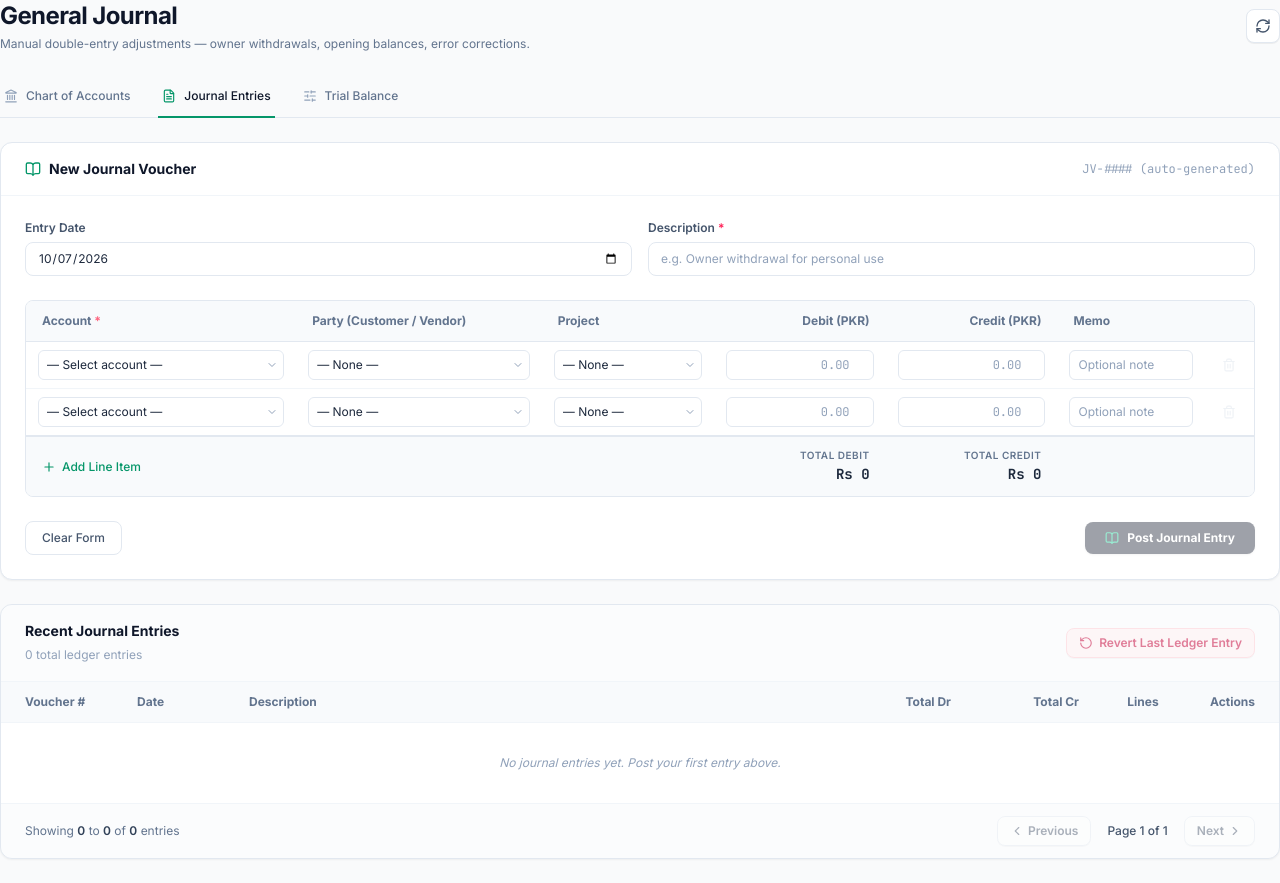
Test: JournalEntryForm / JournalsPage Component › 6. On successful POST, form resets and success message appears
Type "Valid posting" into the field with placeholder "e.g. Owner withdrawal for personal use" at coordinates (952, 259), box [648,242,1255,276]
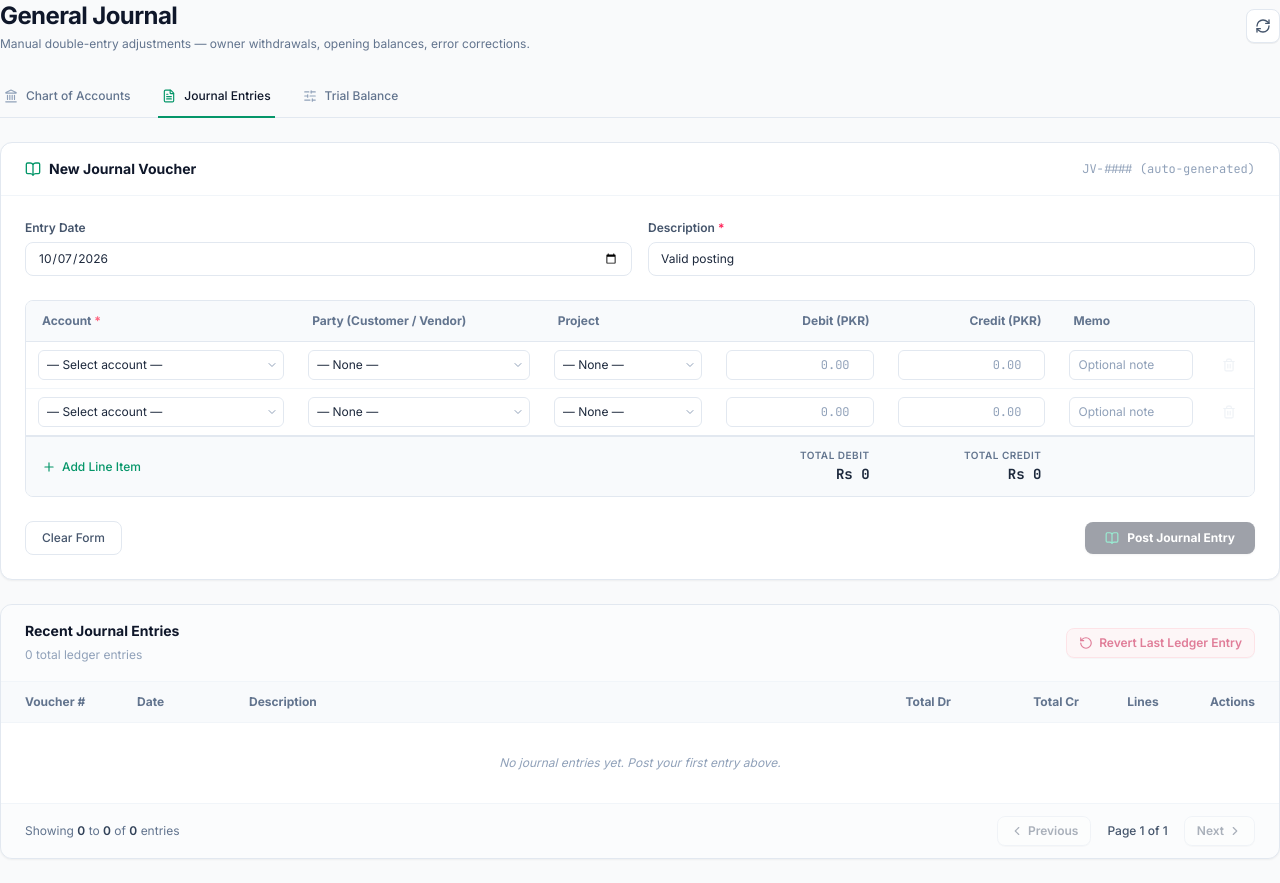
Select "1001 — Cash in Bank" in the 1st dropdown at coordinates (161, 365), box [38,350,284,380]
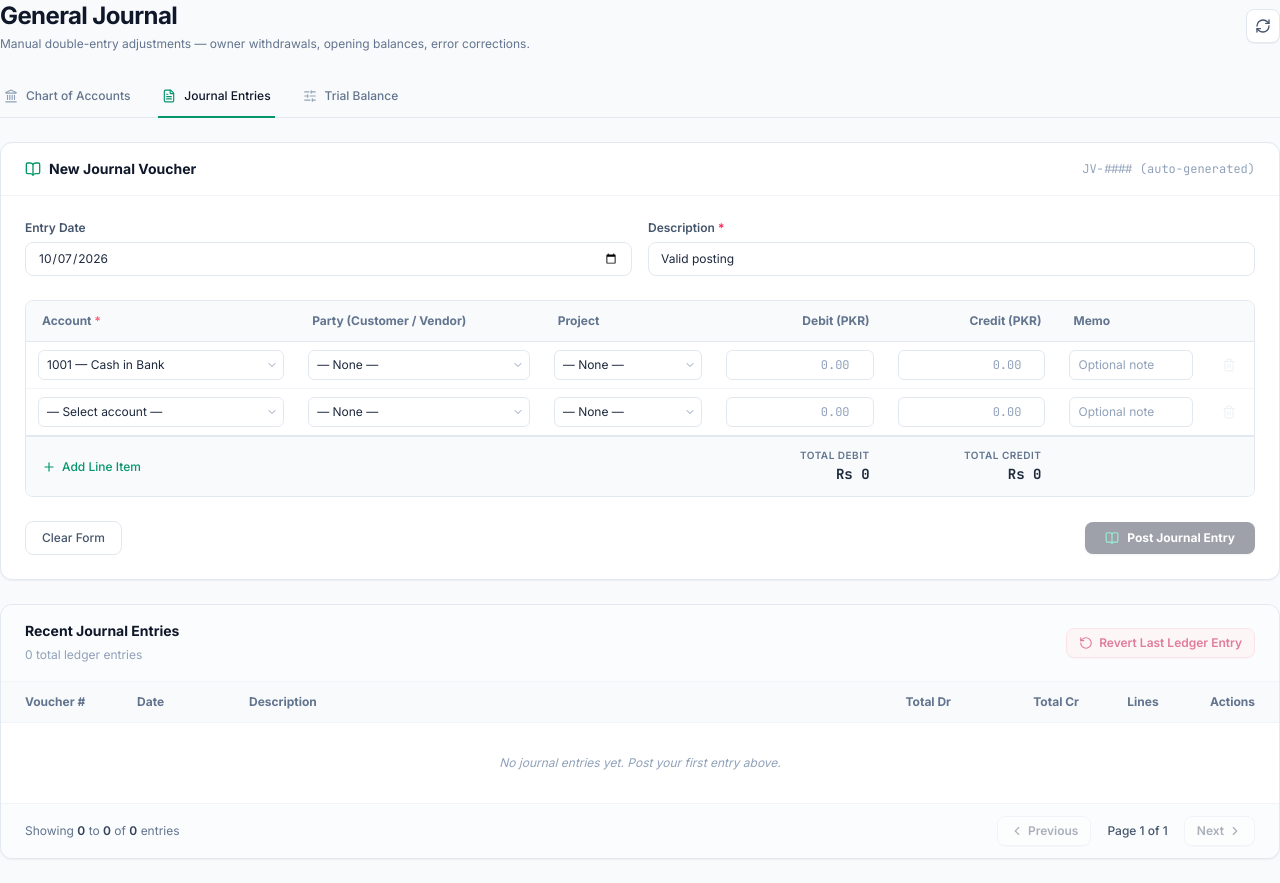
Select "3001 — Owner Equity" in the 4th dropdown at coordinates (161, 412), box [38,397,284,427]
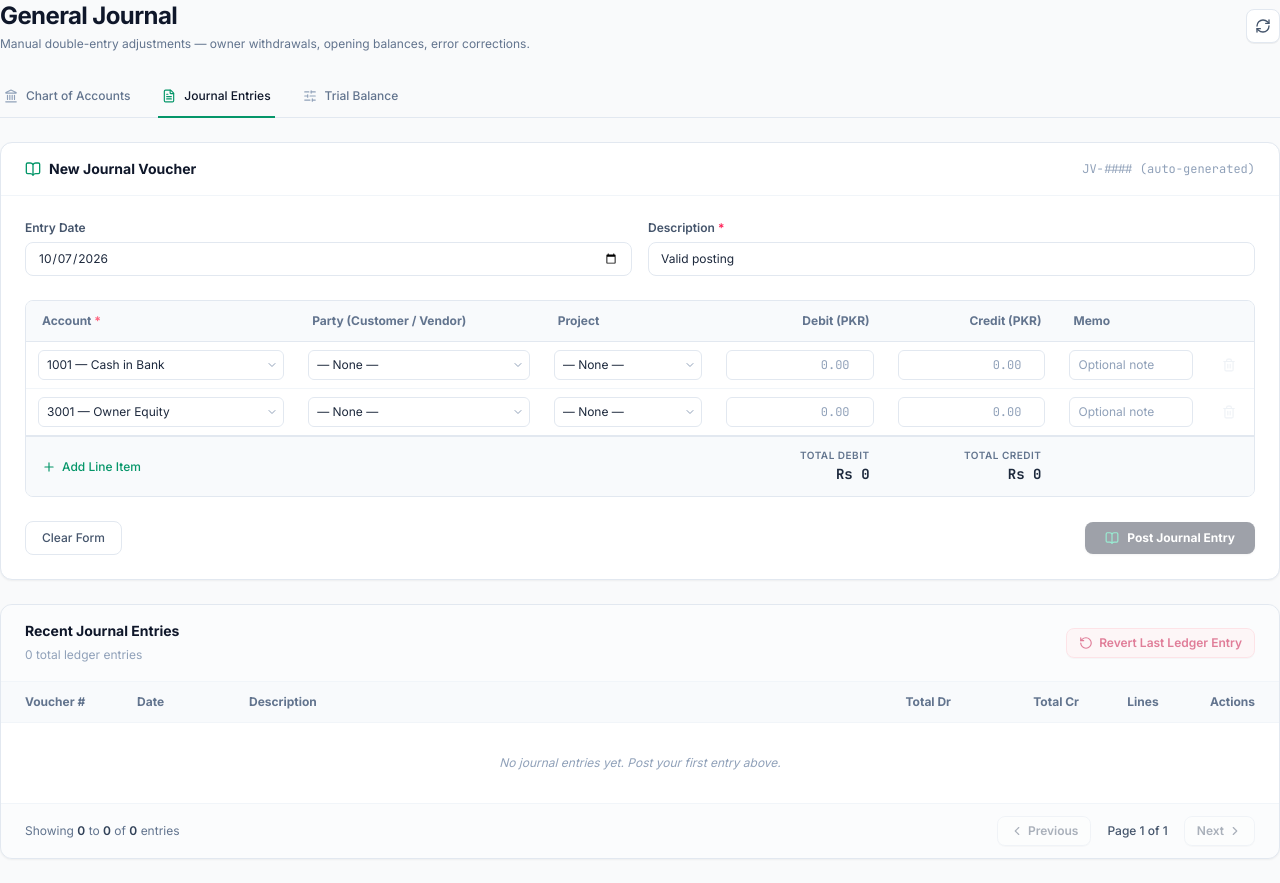
Type "1000" into the 1st number field with placeholder "0.00" at coordinates (800, 365), box [726,350,874,380]
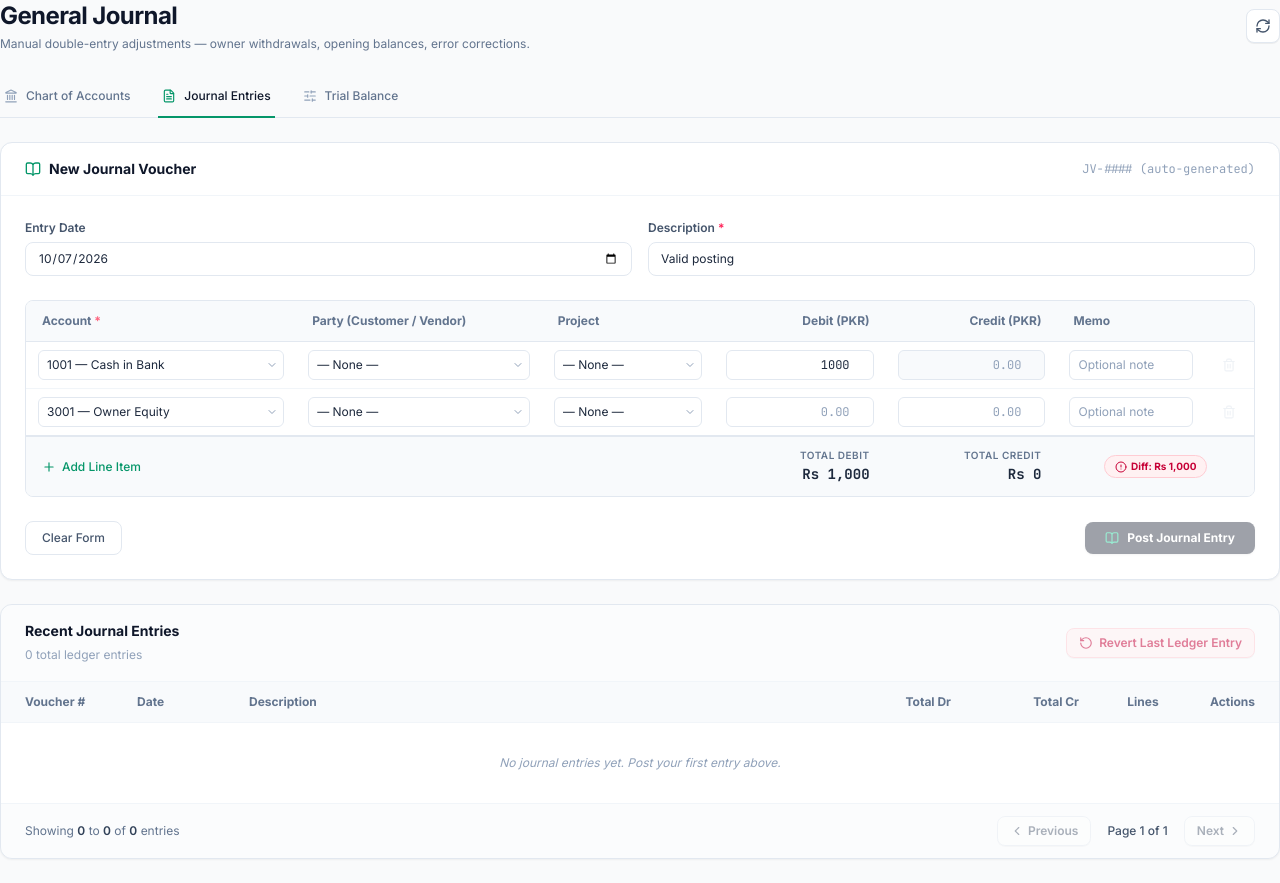
Type "1000" into the 3rd number field with placeholder "0.00" at coordinates (972, 412), box [898,397,1046,427]
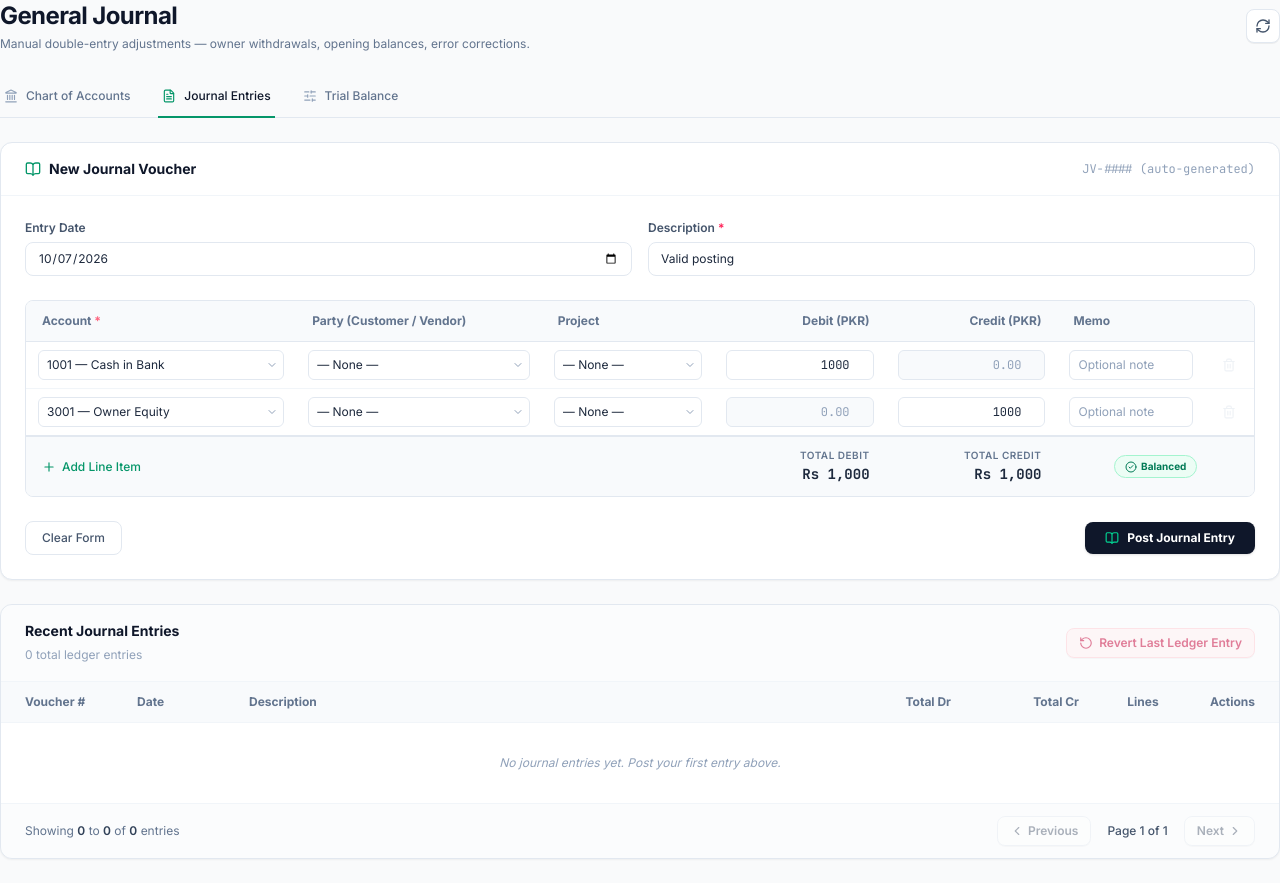
Check: the button "Post Journal Entry" is enabled
Click the button "Post Journal Entry" at coordinates (1170, 538), box [1085,522,1255,554]
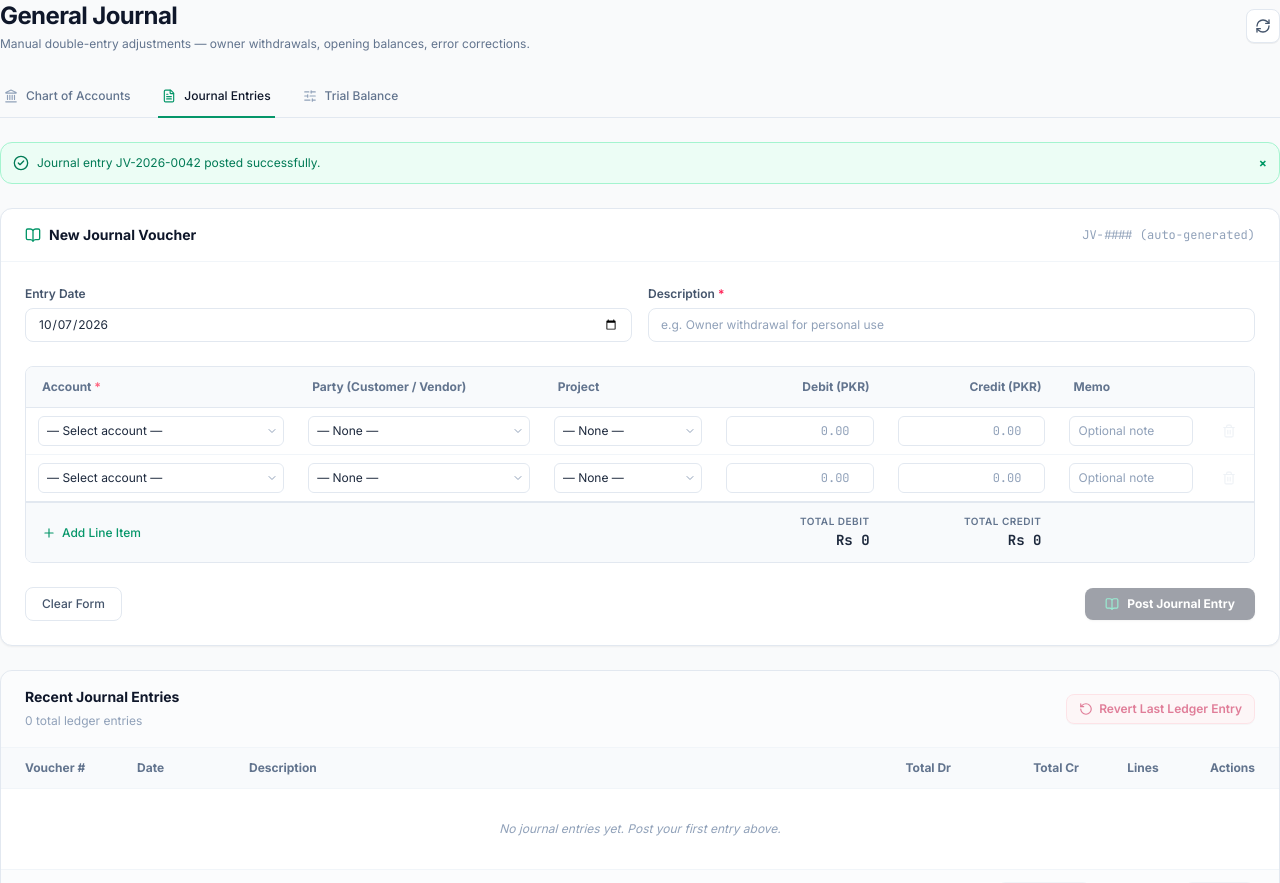
Check: the text "Journal entry JV-2026-0042 posted successfully." is shown, box [37,155,320,171]
